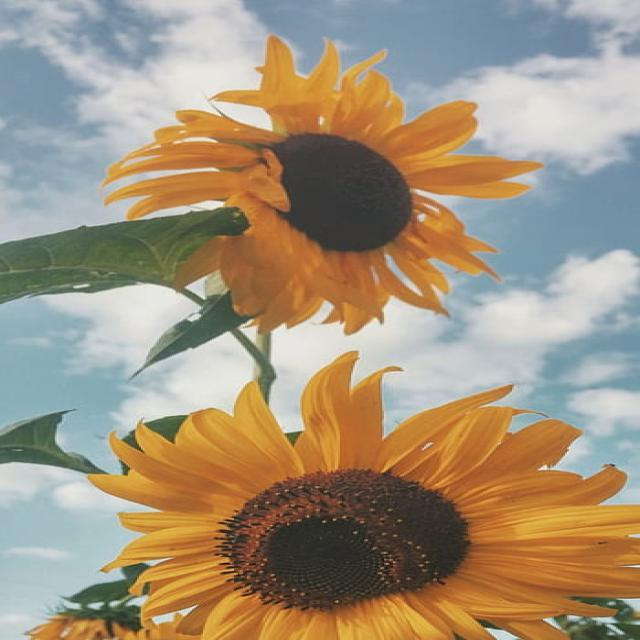sunflower: (86, 349, 638, 639), (99, 33, 544, 335), (27, 615, 155, 640), (146, 612, 201, 640)
